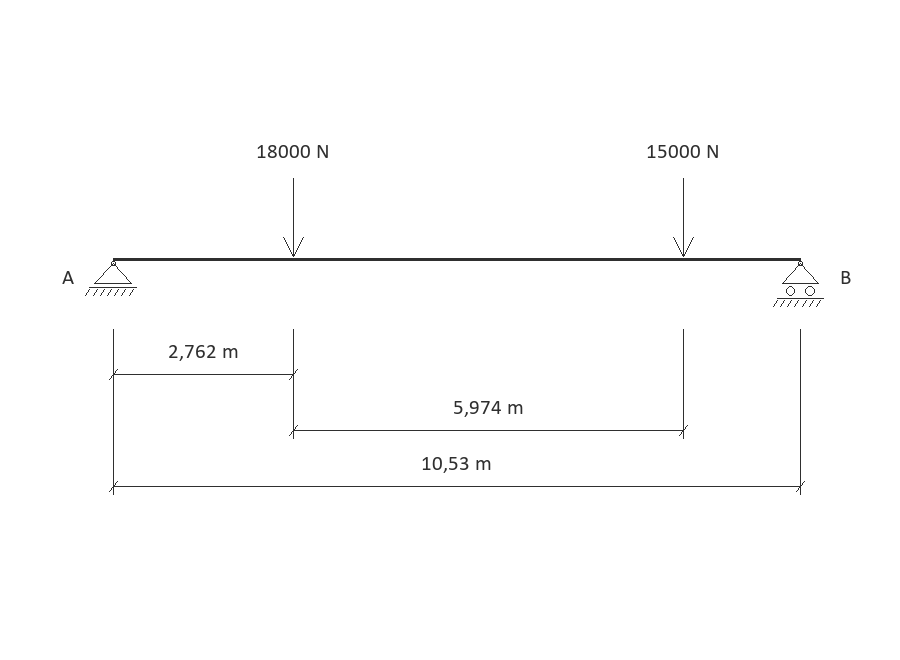pin_support: (85, 261, 137, 296)
point_load: (283, 178, 304, 257), (673, 178, 694, 257)
roller_support: (773, 261, 824, 307)
